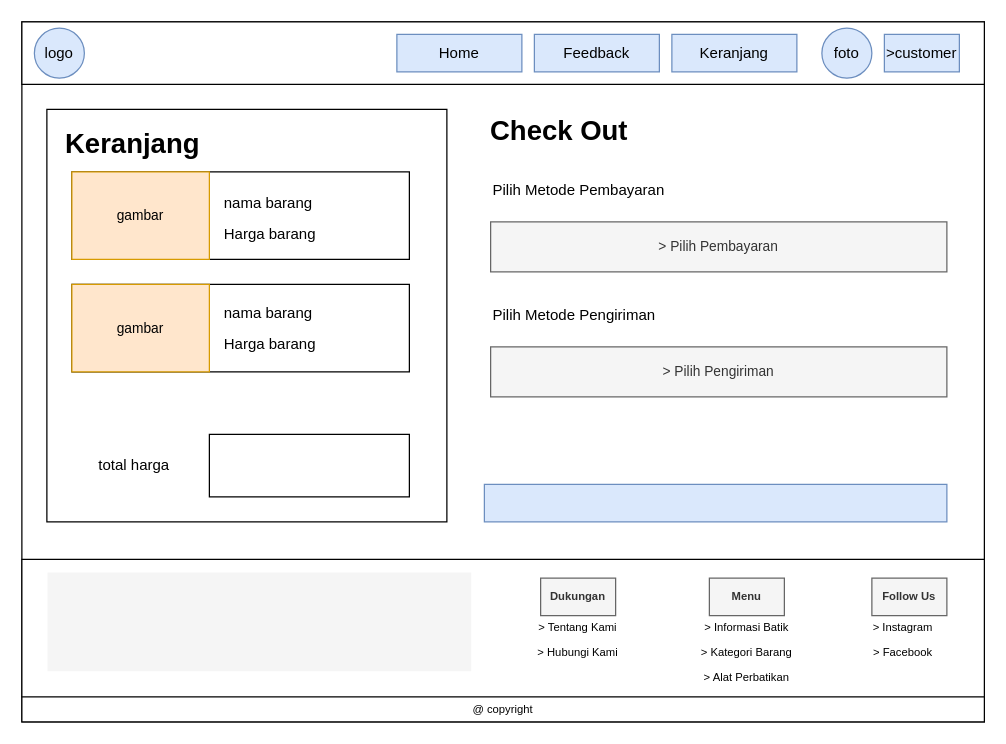
Some shapes in this 1006 by 744 pixel diagram are drawn without their labels. The shapes that lost their labels are listed below. From the top down, each one's centre as x and y in pixels, then its label:
(x=308, y=465): Rp. x.xxx.xxx
(x=715, y=502): Pesan
(x=259, y=621): OMAH BATIK 78 penjelasan singkat mengenai website ini
